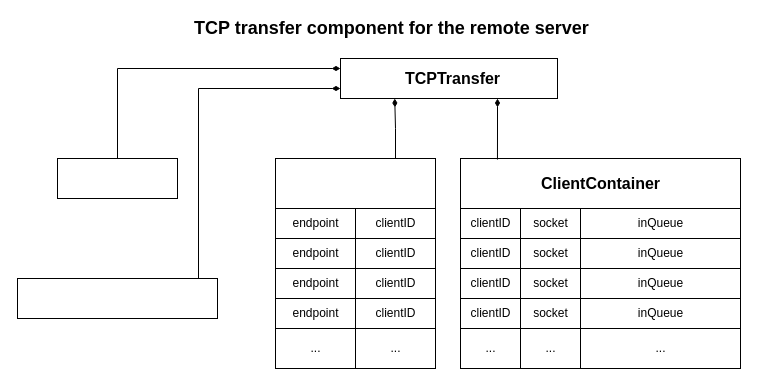
The diagram is 758 pixels wide and 386 high, and some of its shapes have lost their labels. Here are the shapes that lost their labels. From the top down, the centre of each, then its label:
point (117, 178): Acceptor
point (355, 183): IDTable
point (117, 298): outQueue
